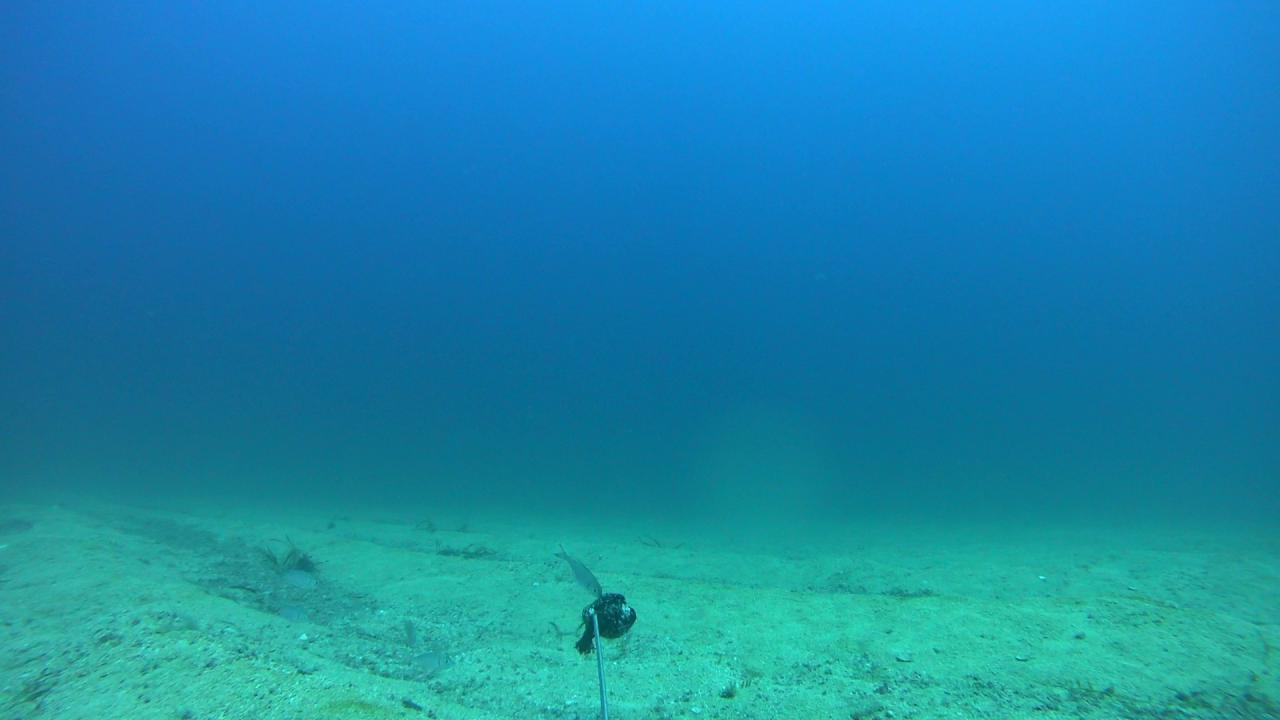pagellus: (553, 543, 600, 596), (401, 646, 454, 671), (277, 564, 323, 591)
